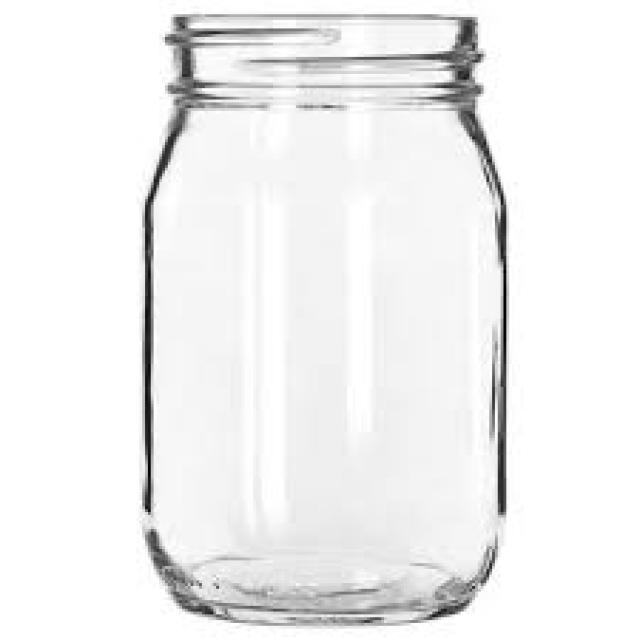Glass: (145, 16, 510, 626)
